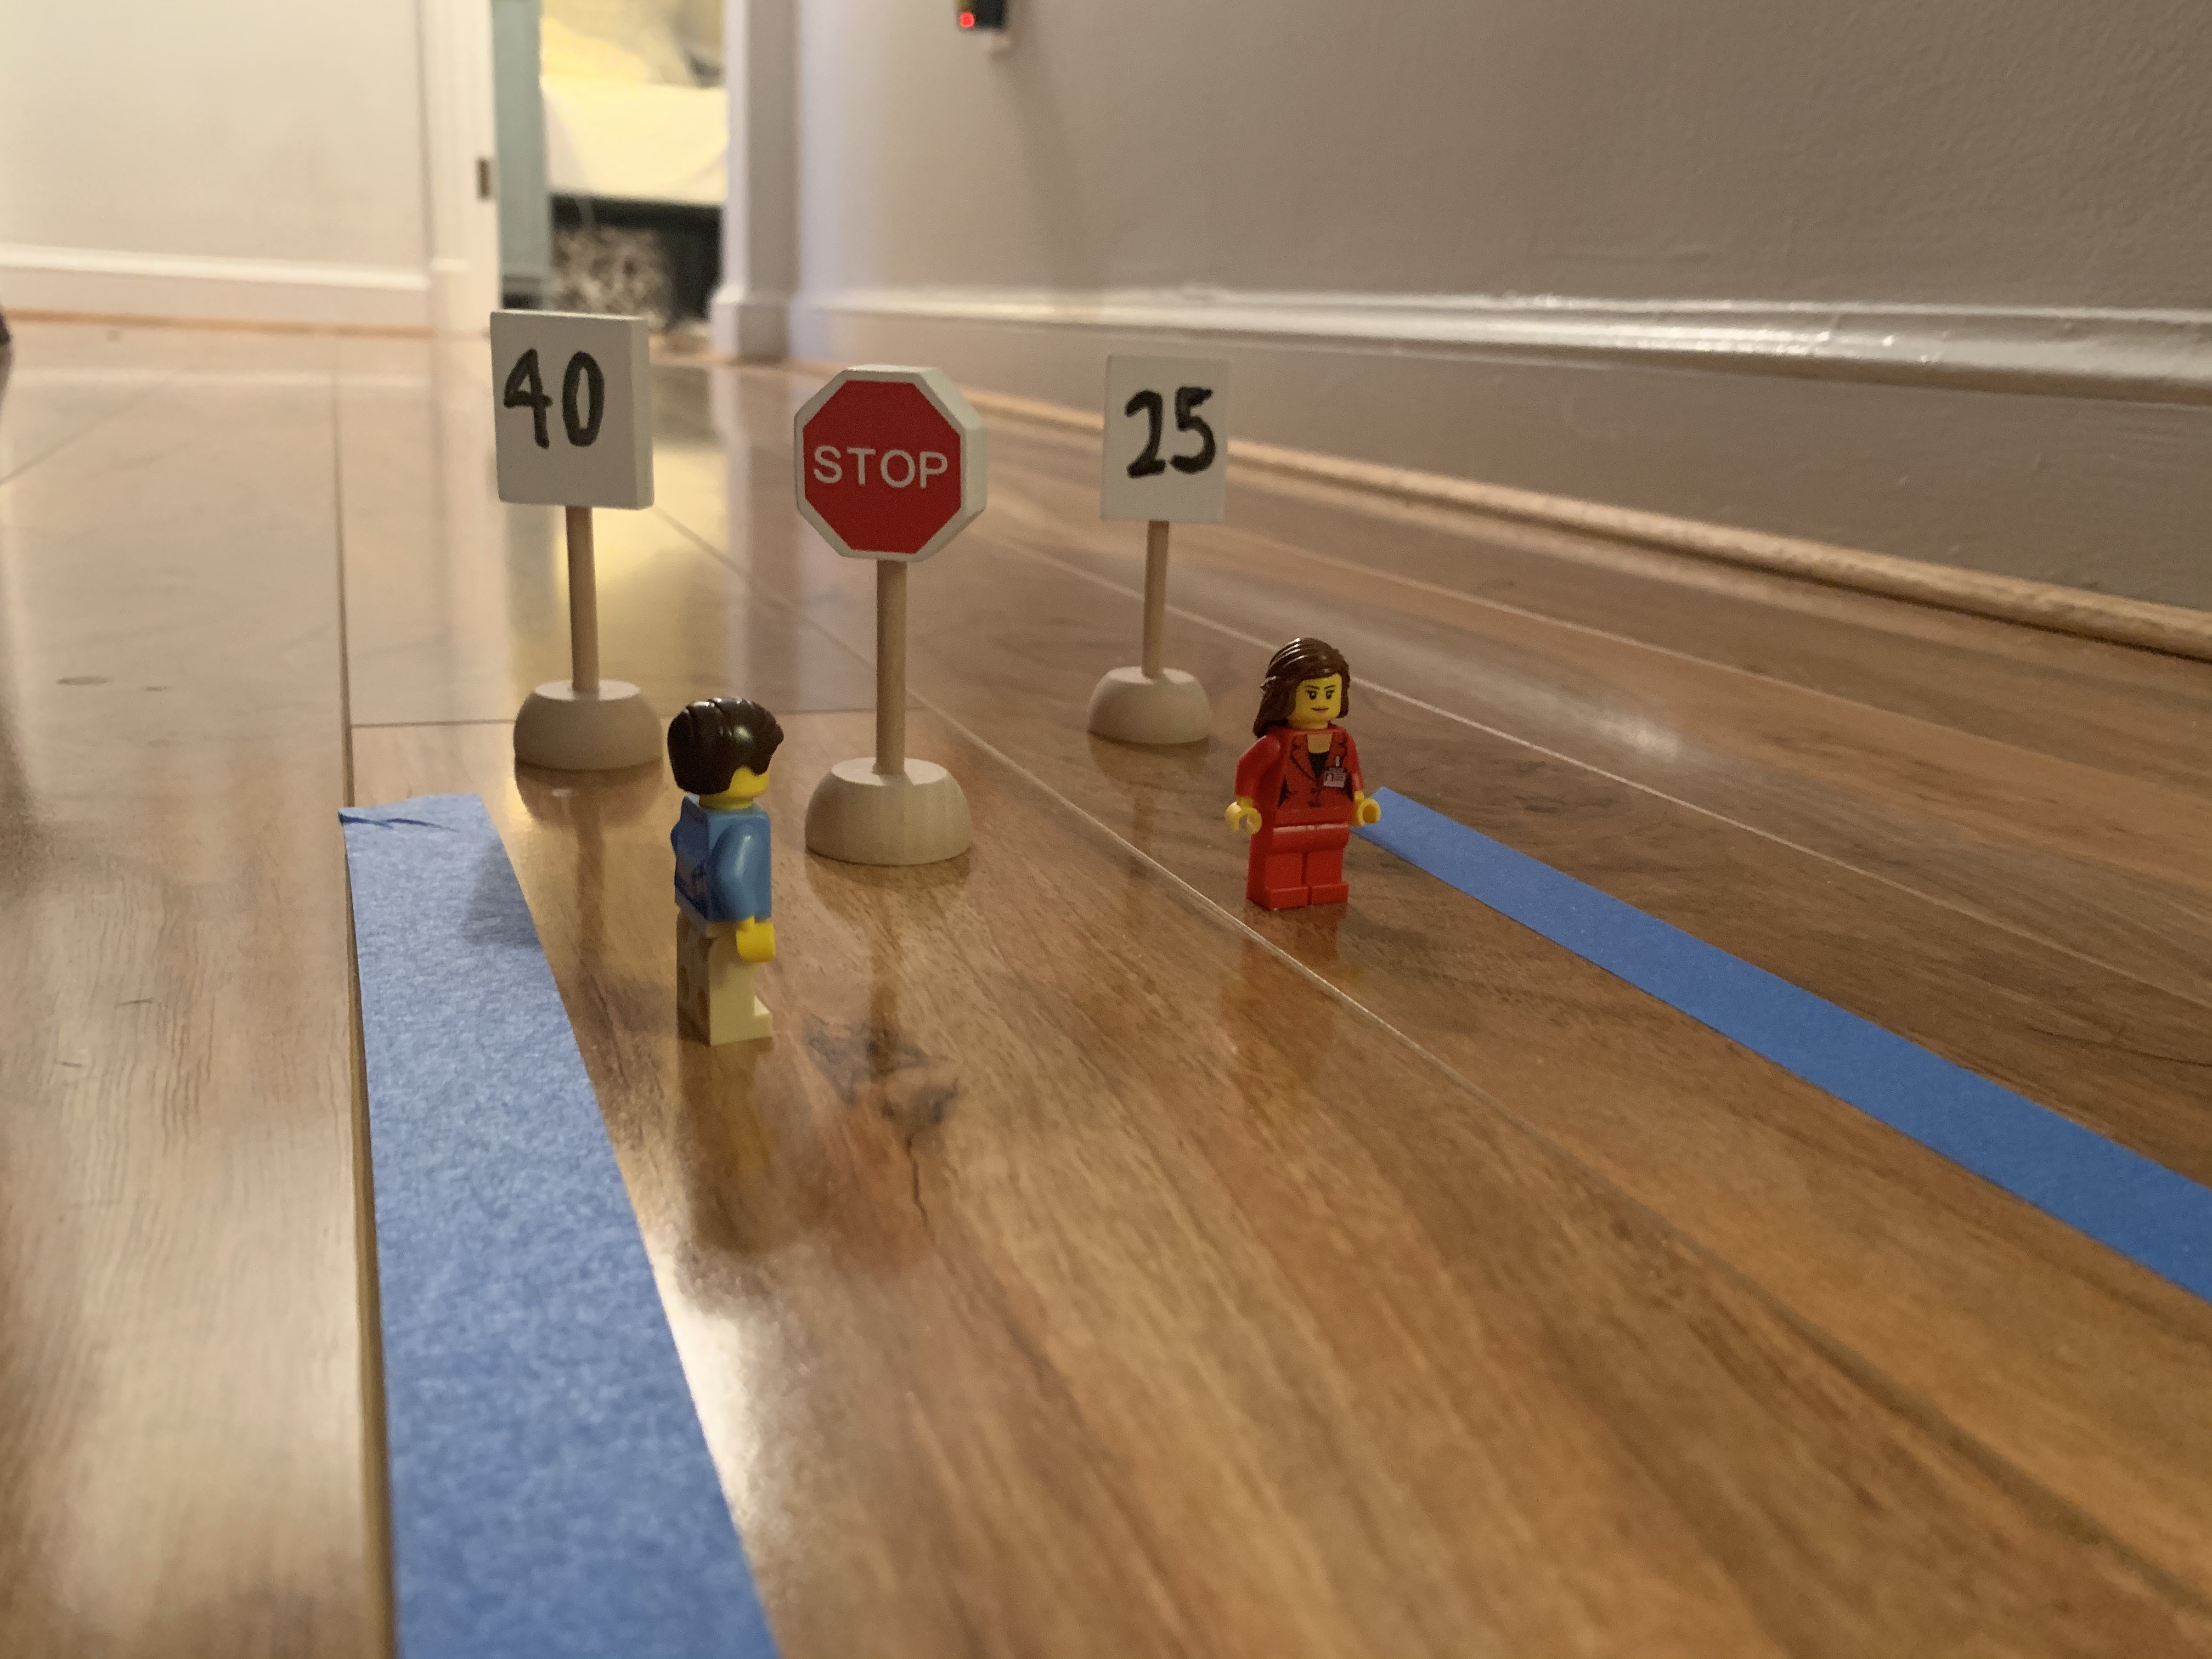Person: (647, 692, 804, 1070), (1209, 623, 1393, 921)
Speed Limit 25: (1103, 354, 1229, 515)
Speed Limit 40: (488, 313, 637, 503)
Stop Sign: (792, 368, 984, 559)
